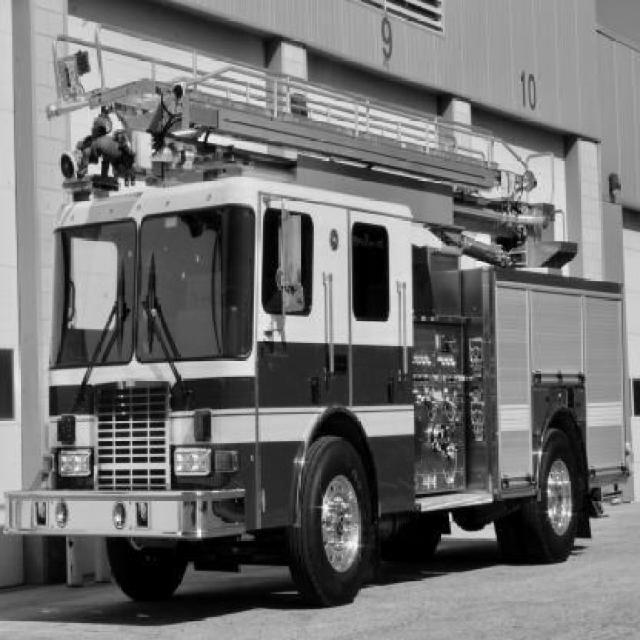Fire Truck: (3, 50, 634, 609)
